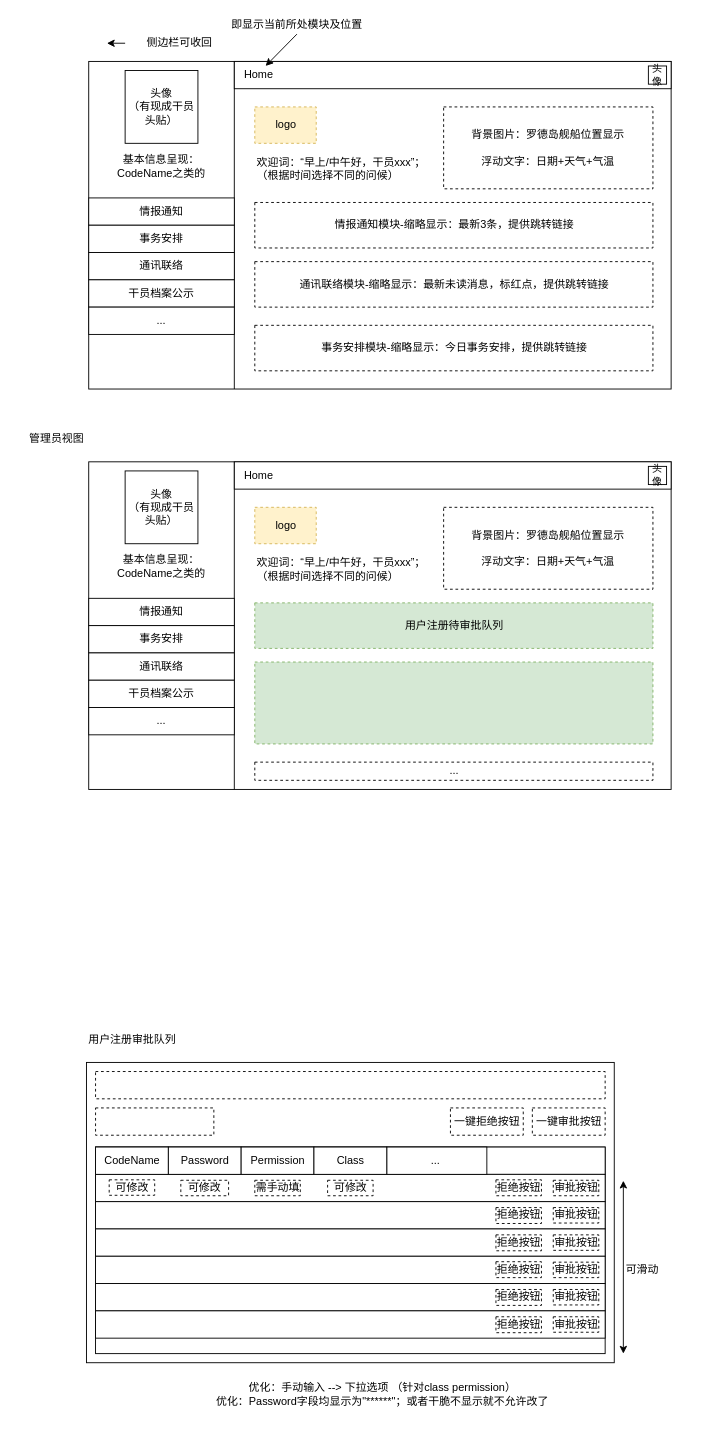
Some shapes in this 703 by 1432 pixel diagram are drawn without their labels. Each missing label, with the centre of its shape:
干员（注册用户）列表: point 453,702
待审批用户列表 （表名）: point 350,1085
查找：_________: point 154,1121
